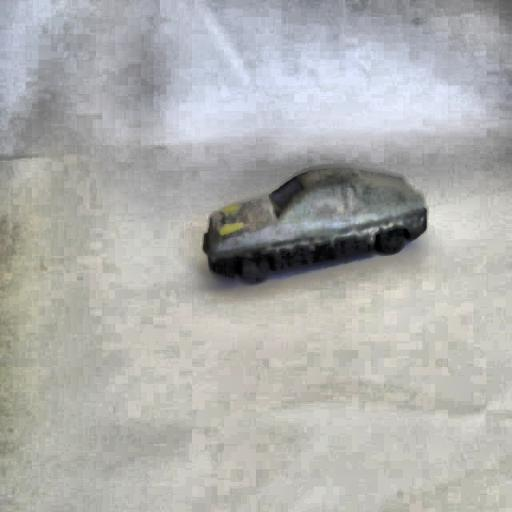normal_car: (199, 160, 431, 288)
